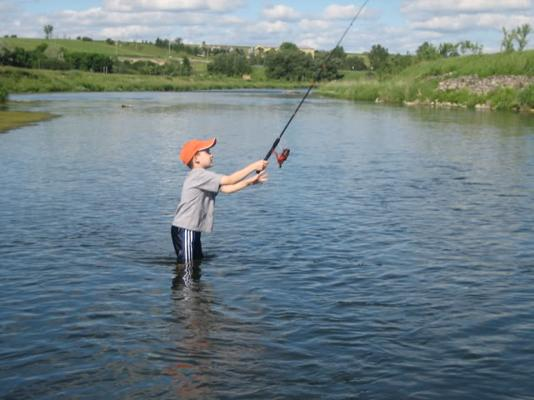person: (172, 139, 269, 267)
